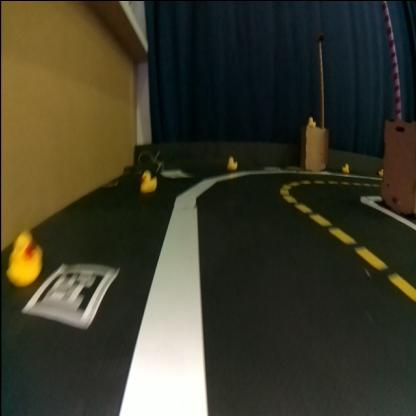Duckie: (7, 231, 42, 284), (142, 170, 156, 191), (226, 154, 236, 168), (308, 116, 315, 126), (343, 162, 349, 171), (380, 168, 384, 173)
QR code: (23, 261, 119, 327)
